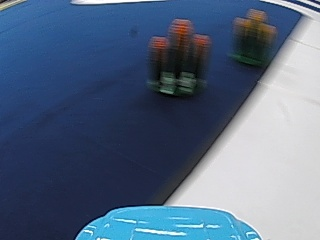tractor: (144, 16, 211, 98), (230, 5, 277, 67)
